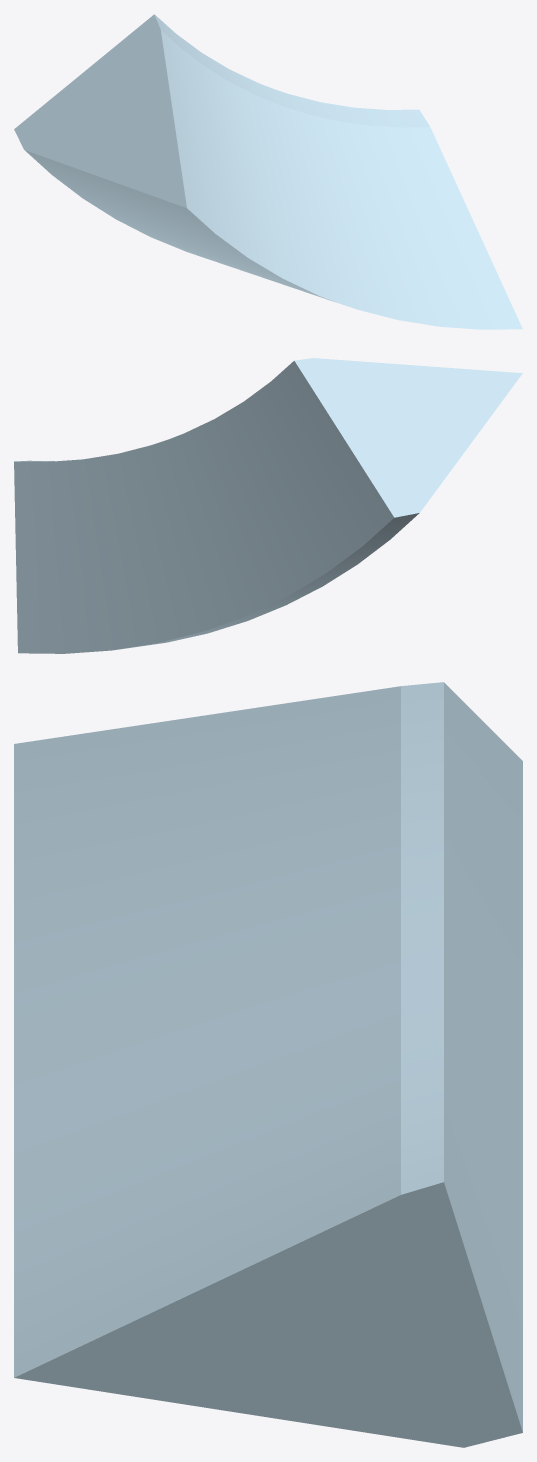
The model's file is Sub_5_Cell_3_2.gltf.
The picture shows the model from 3 angles, top to bottom: view 1: azimuth 30°, elevation 25°; view 2: azimuth 150°, elevation 25°; view 3: azimuth 270°, elevation 25°; orthographic projection. The views are drawn at different scales.
Visible parts, largest first — view 1: Sub_5_Cell_3_2; view 2: Sub_5_Cell_3_2; view 3: Sub_5_Cell_3_2.
Part boxes in pixels (x1=…): Sub_5_Cell_3_2: x1=14, y1=14, x2=522, y2=329; Sub_5_Cell_3_2: x1=14, y1=358, x2=522, y2=653; Sub_5_Cell_3_2: x1=14, y1=682, x2=522, y2=1447.
Bounding box in the file's own units: 0.0899 × 0.0723 × 0.0589.
